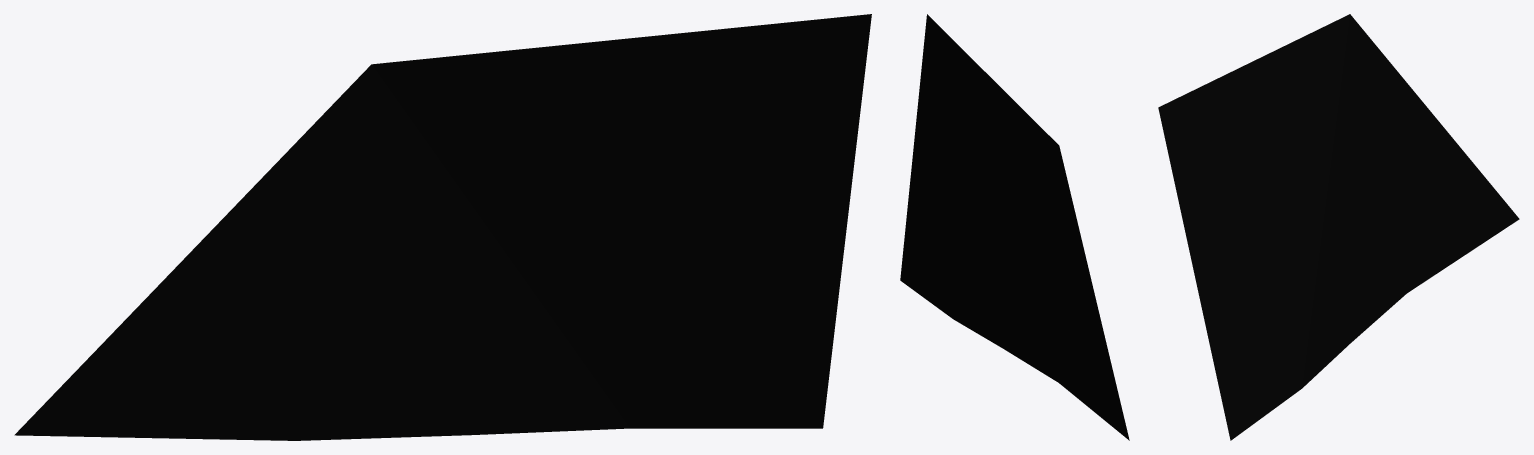
3 views of the same model, side by side, from view 1: azimuth 30°, elevation 25°; view 2: azimuth 150°, elevation 25°; view 3: azimuth 270°, elevation 25° (orthographic). The views are drawn at different scales.
Size of the model in its own units: 6.35 by 4.45 by 4.38.
Materials: 1 (1 with a texture image).
